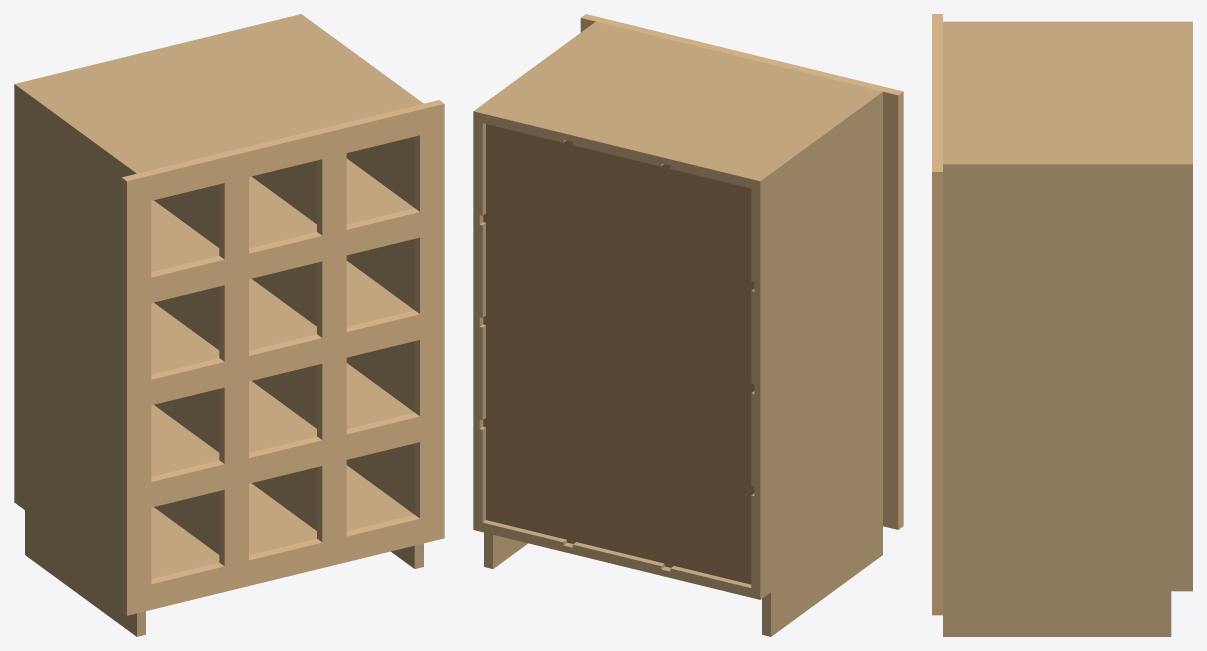
File: soda-org-2.glb
3 views of the same model, side by side, from view 1: azimuth 30°, elevation 25°; view 2: azimuth 150°, elevation 25°; view 3: azimuth 270°, elevation 25° (orthographic).
Parts seen in each view (by area): view 1: SIDE-L, TOP, ST-1, ST-4, ST-3, ST-2, SIDE-R, DIV-1, DIV-2, BOT, SH-L3, SH-L1 (+22 smaller); view 2: BACK, SIDE-L, TOP, ST-1, SIDE-R, BOT; view 3: SIDE-R, TOP, ST-4, SIDE-L, RA-52, RA-51, RA-53.
Part boxes in pixels (x1,y1,x2,y2): SIDE-L: (14,82,145,636); TOP: (21,15,417,171); ST-1: (121,171,151,615); ST-4: (414,100,444,544); ST-3: (317,124,346,567); ST-2: (219,147,248,591); SIDE-R: (295,14,423,568); DIV-1: (154,184,219,554); DIV-2: (251,160,316,530); BOT: (151,465,414,578); SH-L3: (151,200,219,272); SH-L1: (151,405,219,476); BACK: (483,124,754,584); SIDE-L: (751,90,882,636); TOP: (479,23,876,189); ST-1: (874,85,903,529); SIDE-R: (473,21,601,568); BOT: (479,520,754,598); SIDE-R: (943,161,1192,636); TOP: (943,24,1192,161); ST-4: (932,160,942,615); SIDE-L: (943,21,1192,24); RA-52: (932,74,942,111); RA-51: (932,26,942,62); RA-53: (932,123,942,159).
Size of the model in its own units: 0.6604 by 0.9208 by 0.4604.
